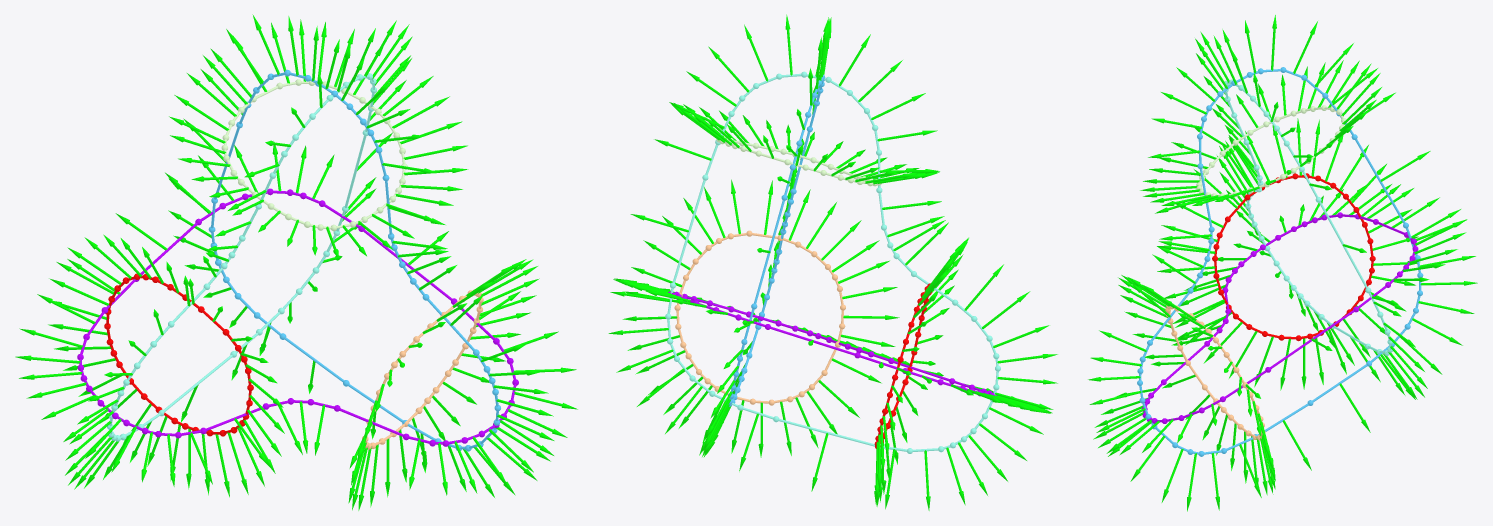
File: flowrep_trebol.gltf
3 views of the same model, side by side, from view 1: azimuth 30°, elevation 25°; view 2: azimuth 150°, elevation 25°; view 3: azimuth 270°, elevation 25° (orthographic). The views are drawn at different scales.
Bounding box in the file's own units: 0.8297 × 0.8036 × 0.6561.
